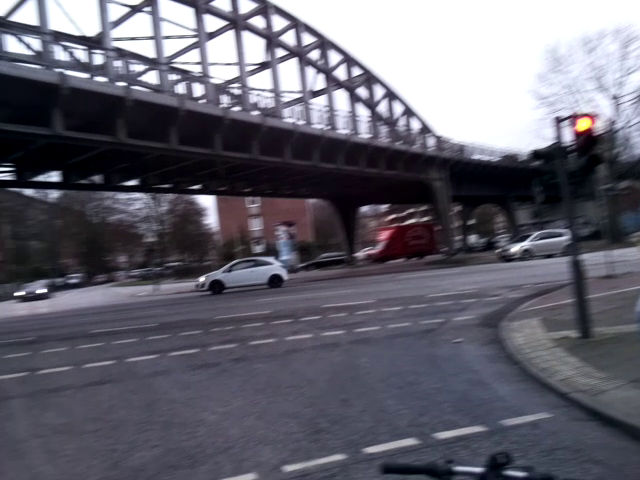car: (192, 254, 290, 298)
